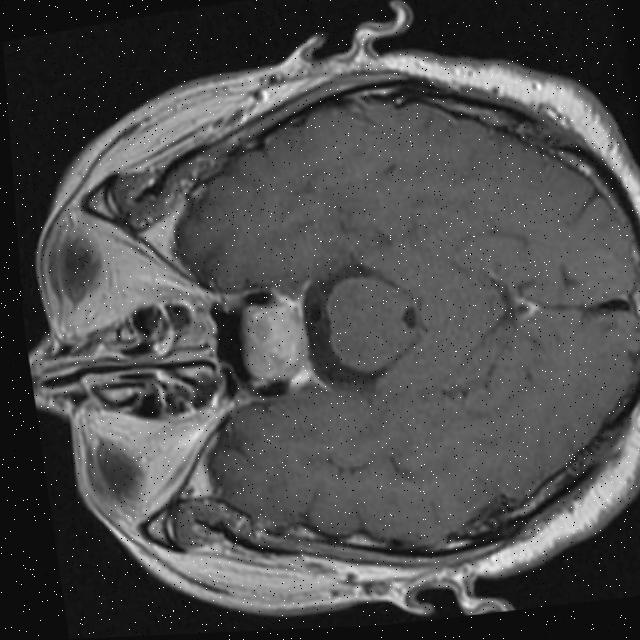Pituitary: (233, 297, 311, 386)
